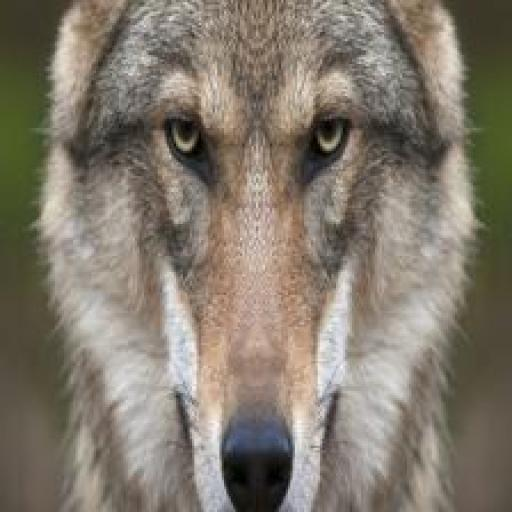wolf: (32, 0, 478, 512)
